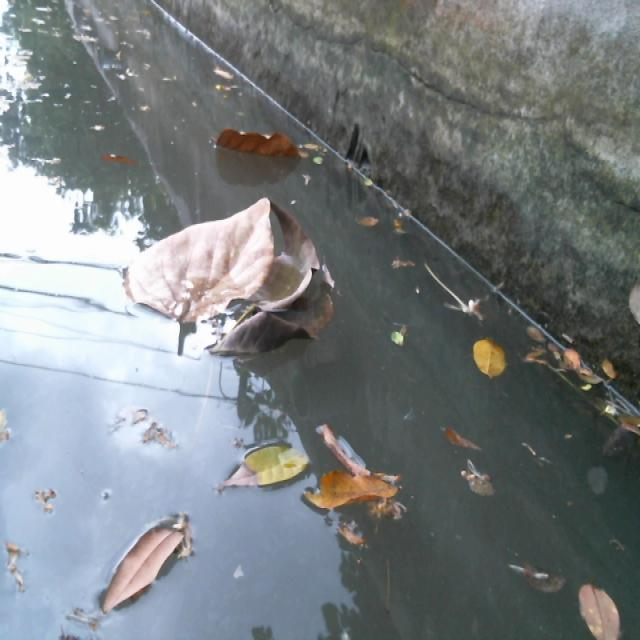Big-leaf: (114, 200, 341, 371), (202, 111, 305, 171)
Small-leaf: (87, 514, 196, 619), (206, 429, 305, 495), (572, 573, 633, 640), (465, 327, 512, 392), (504, 559, 561, 595), (461, 464, 501, 504), (392, 328, 425, 375), (444, 421, 489, 453), (105, 142, 145, 174), (560, 345, 588, 389), (343, 212, 383, 235), (358, 171, 384, 199), (600, 358, 619, 388), (312, 155, 324, 167)
